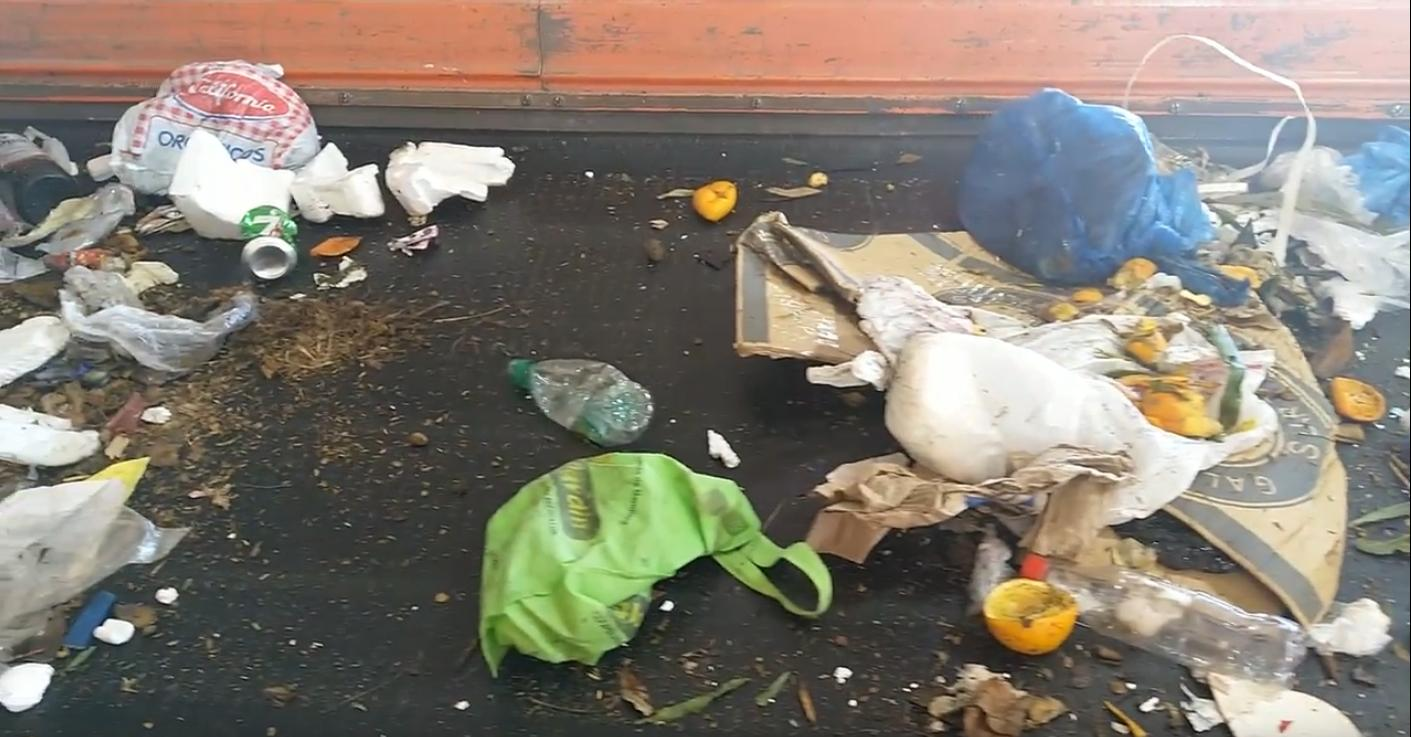bottle: (1069, 550, 1304, 692), (499, 339, 670, 457)
